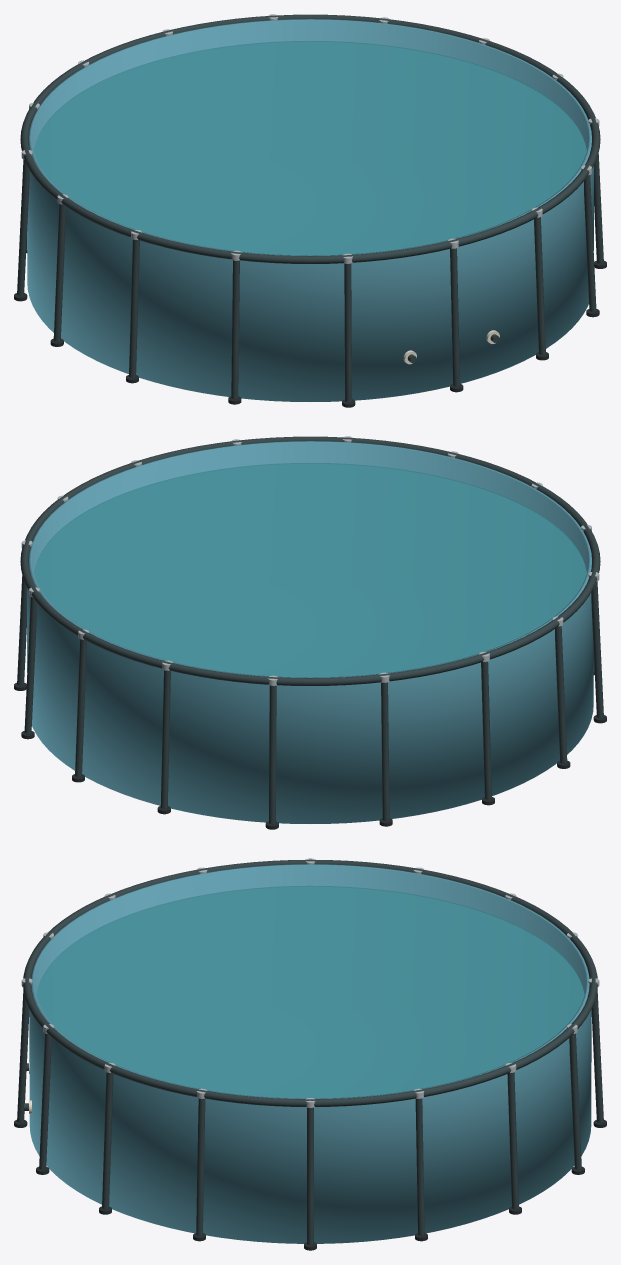
Rendered from pool-round-frame.glb.
The picture shows the model from 3 angles, top to bottom: view 1: azimuth 30°, elevation 25°; view 2: azimuth 150°, elevation 25°; view 3: azimuth 270°, elevation 25°; orthographic projection.
Visible parts, largest first — view 1: catalog_surface_RealismUV, catalog_surface_UVMap; view 2: catalog_surface_RealismUV, catalog_surface_UVMap; view 3: catalog_surface_RealismUV, catalog_surface_UVMap.
Part boxes in pixels (x1,y1,x2,y2): catalog_surface_RealismUV: (17,14,603,401); catalog_surface_UVMap: (14,41,606,407); catalog_surface_RealismUV: (17,436,603,823); catalog_surface_UVMap: (14,463,606,829); catalog_surface_RealismUV: (17,858,603,1244); catalog_surface_UVMap: (14,885,606,1250).
Bounding box in the file's own units: 4.5 × 1.22 × 4.5.
